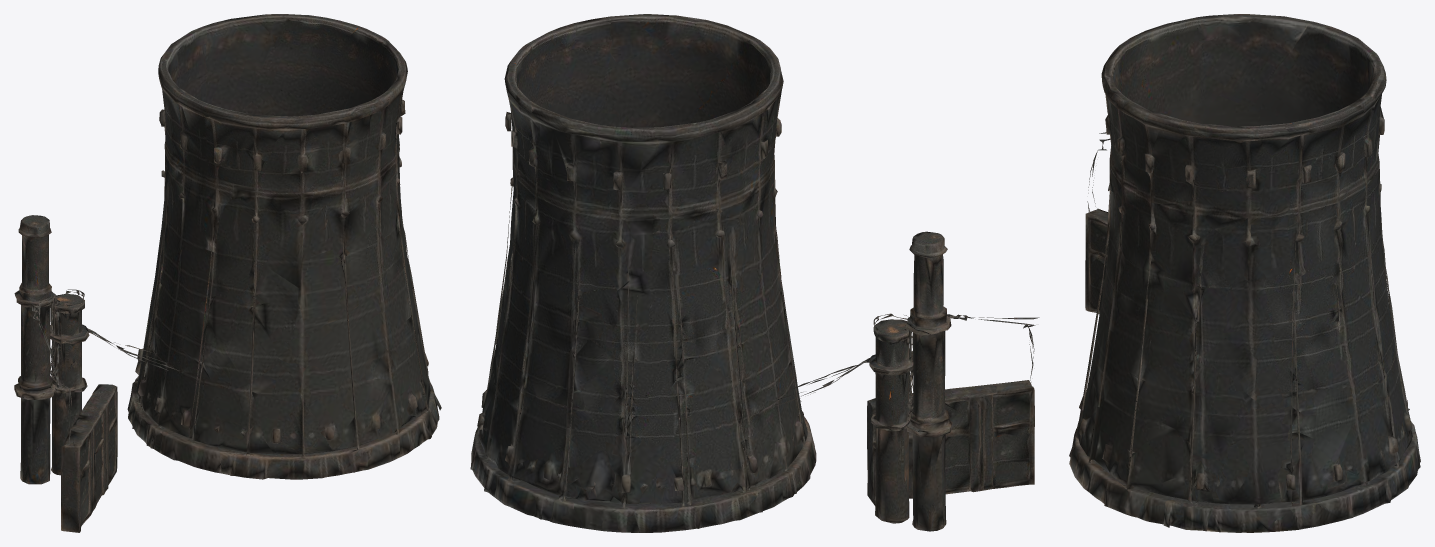
The model's file is heatsink_thermalCoolingTower.3c6a9a5b.glb.
3 renders of one model, left to right at view 1: azimuth 30°, elevation 25°; view 2: azimuth 150°, elevation 25°; view 3: azimuth 270°, elevation 25°, orthographic. The views are drawn at different scales.
Bounding box in the file's own units: 1.9 × 1.49 × 1.22.
1 material, 1 textured.
